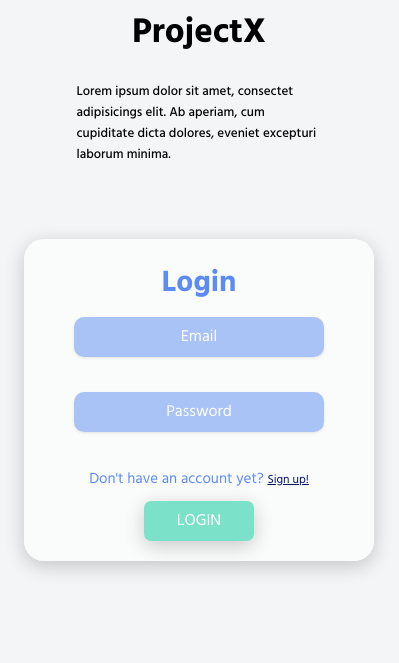
it: AuthForm testing › title should be "Login" after click on login link
The width and height of the screenshot is (399, 663).
What coordinates should you click on to do the following:
click the element with test id "signup-trigger"
I would click on:
 (288, 480)
Its box is [267,472,309,488].
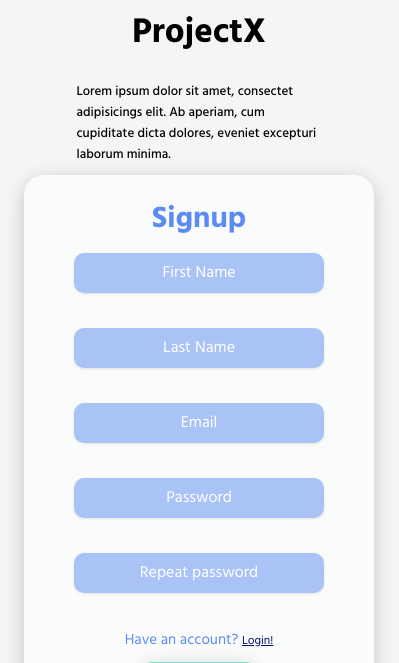
What coordinates should you click on to do the following:
click the element with test id "login-trigger"
I would click on:
 (258, 641)
Its box is [242,633,273,649].
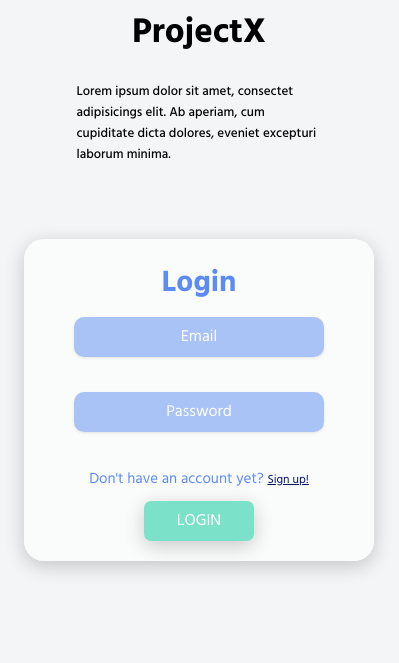
Expected: the heading with test id "test-title" reads "Login", [162,259,236,307]
